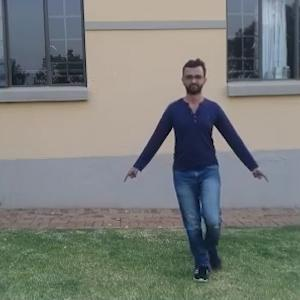land: (140, 76, 253, 247)
